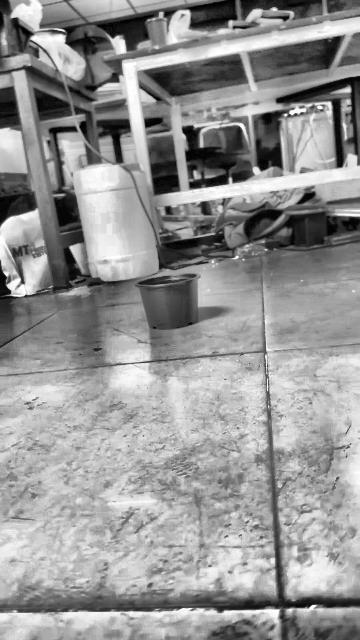pot: (135, 273, 199, 328)
